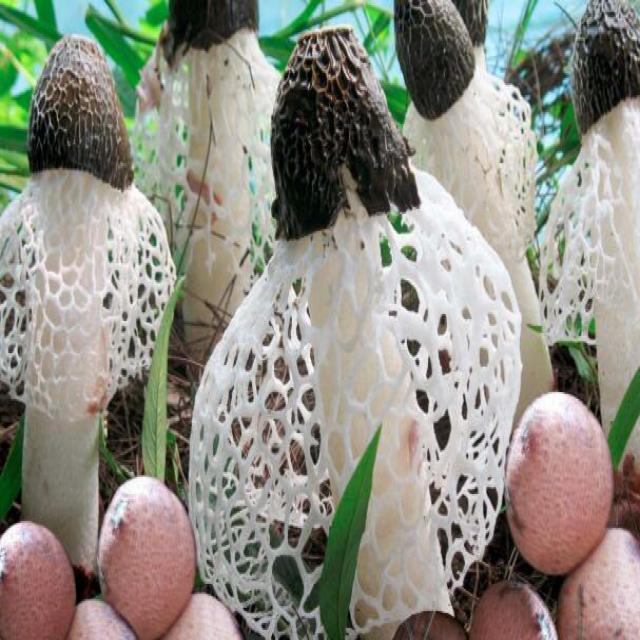Dictyophora indusiate: (189, 27, 521, 640), (0, 34, 177, 568), (392, 0, 554, 405), (134, 0, 283, 351), (541, 0, 640, 470)
